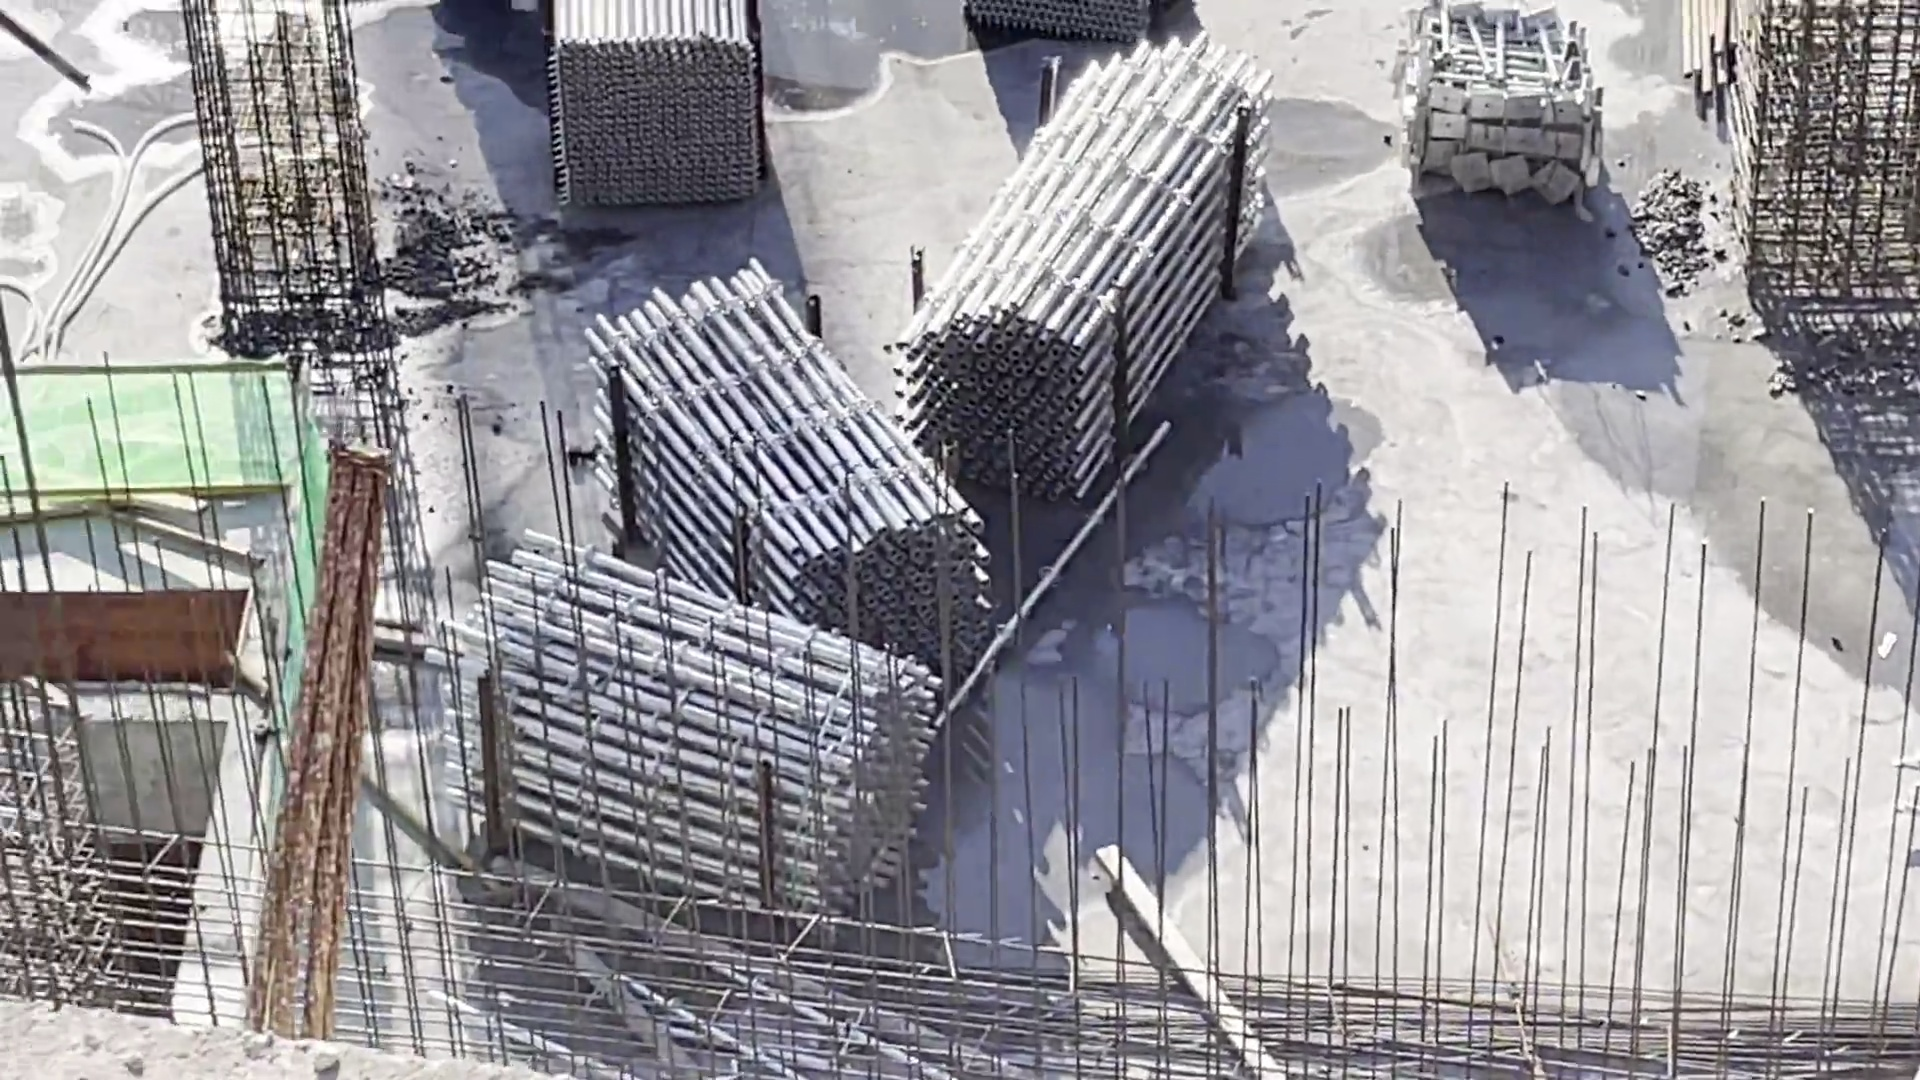scaffold: (414, 527, 943, 924), (880, 32, 1265, 505), (580, 266, 996, 695), (531, 5, 767, 208)
